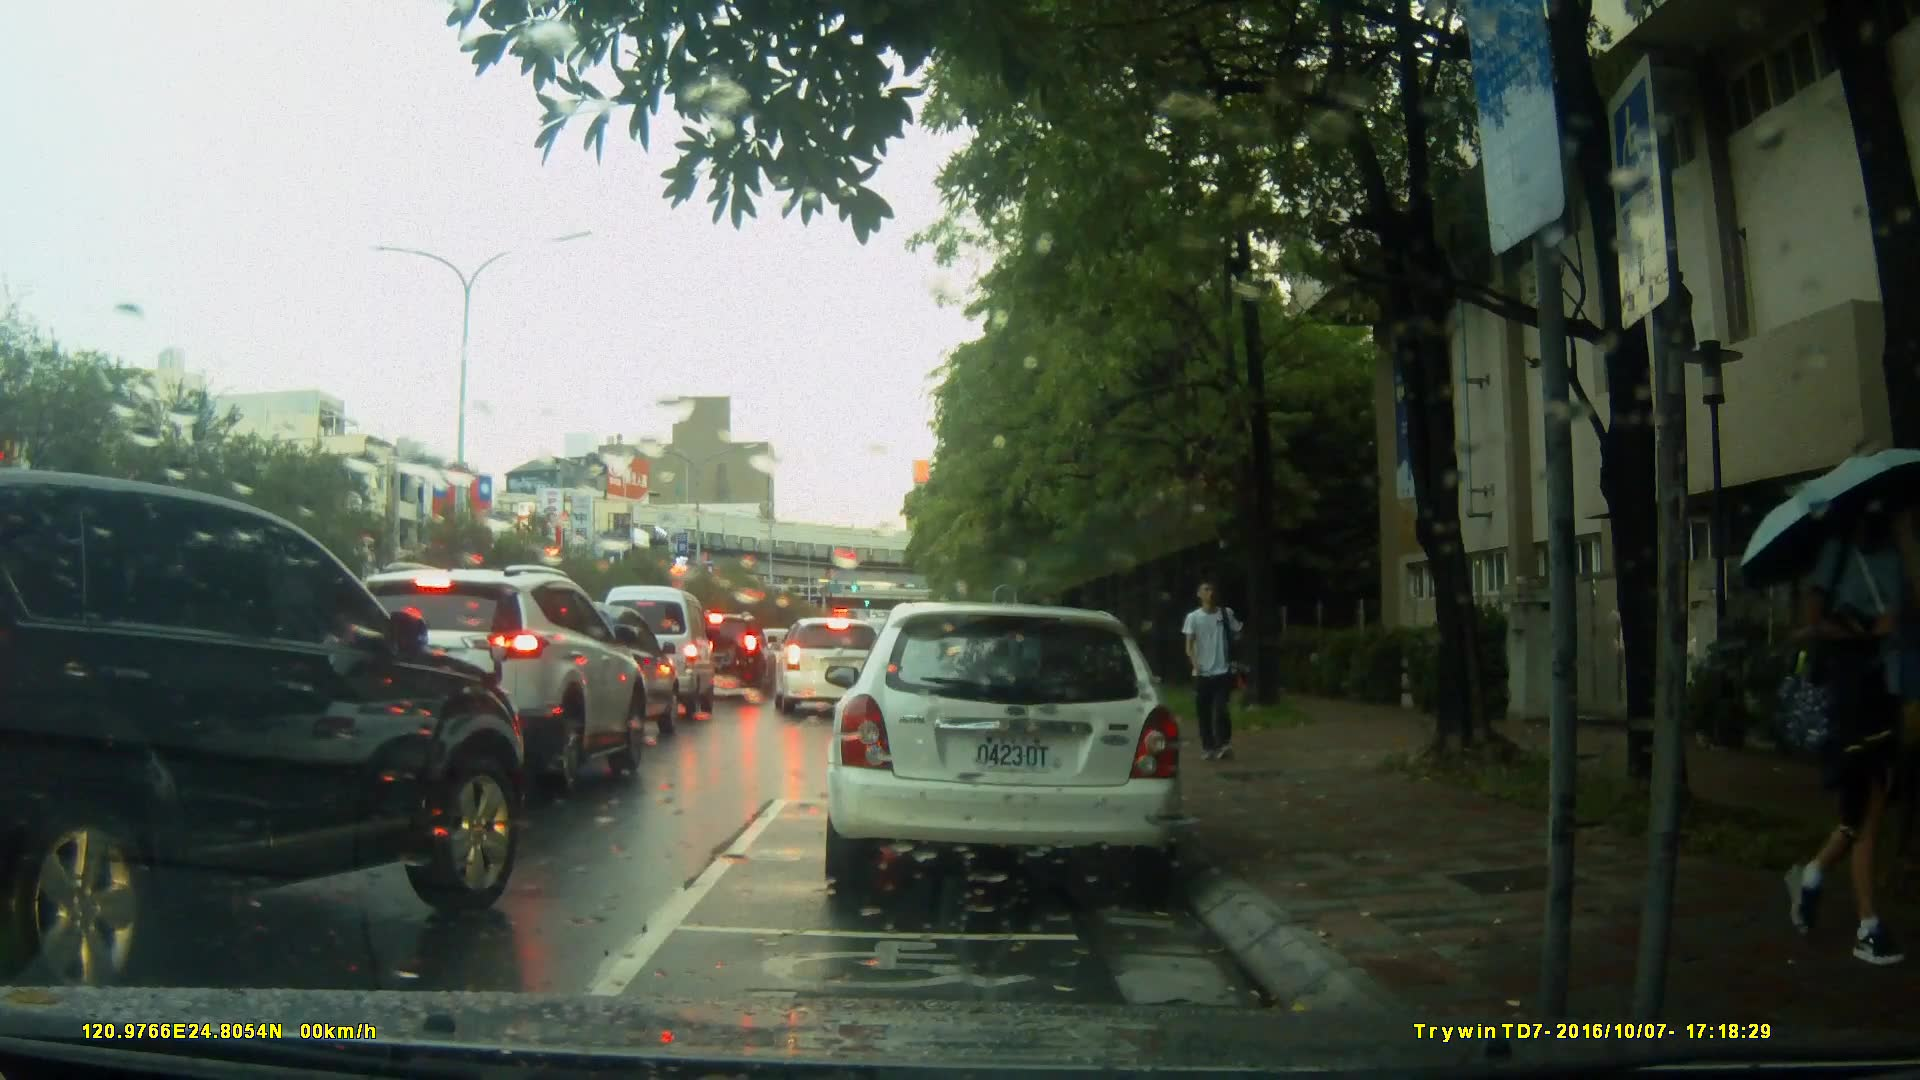pedestrian: (1811, 474, 1904, 968), (1176, 570, 1255, 778)
vehicle: (1, 468, 530, 988), (820, 602, 1188, 898), (330, 563, 656, 792), (522, 604, 686, 740), (595, 584, 720, 723), (772, 617, 894, 716), (682, 611, 771, 698)
